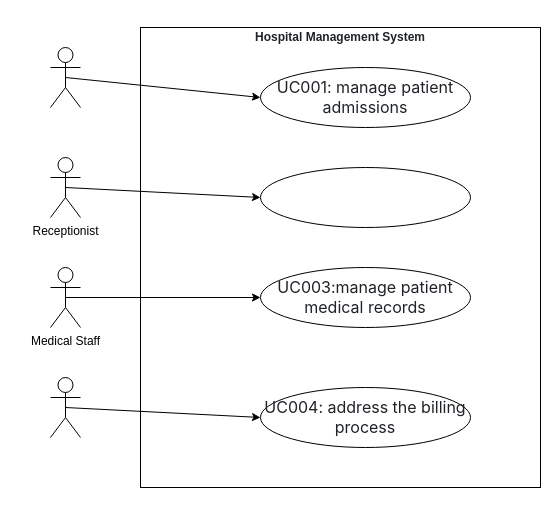
This 558x505 diagram has some shape labels left out. Here are the shapes that lost their labels. From the top down, the centre of each, then its label:
the point at 65,77: Front Desk Staff
the point at 365,197: UC002: schedule patient appointments
the point at 65,407: Billing department
